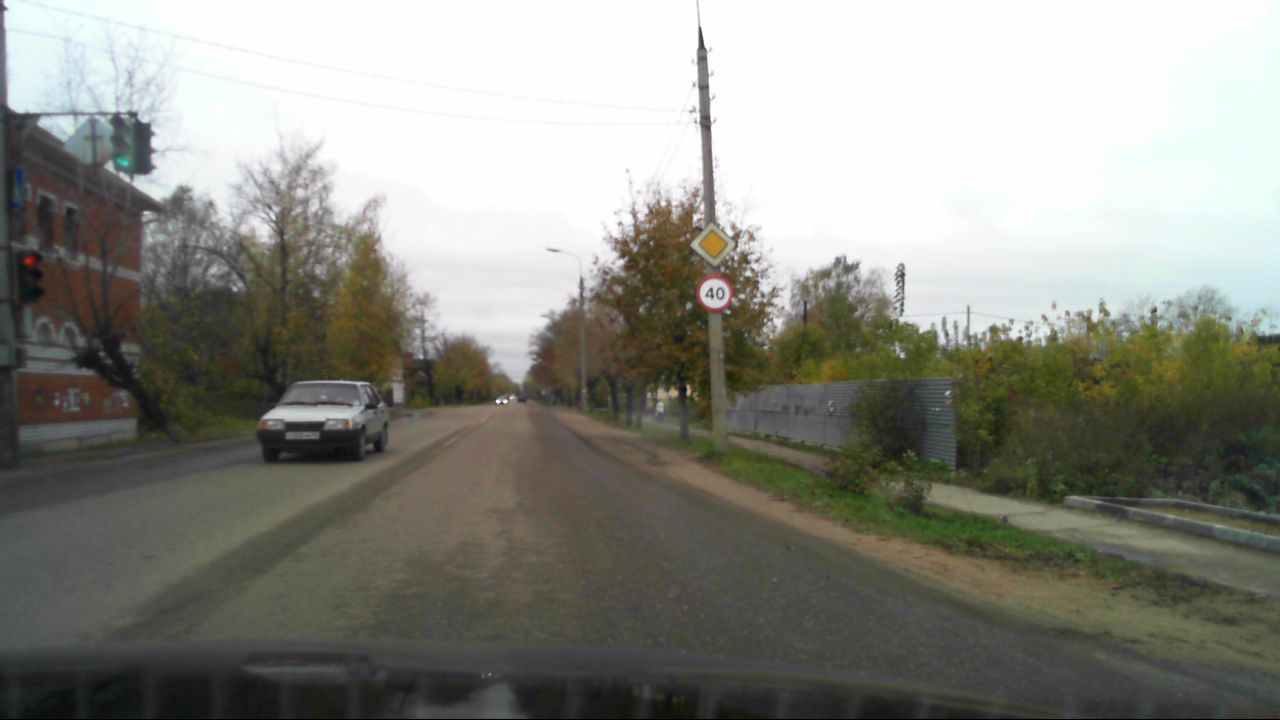speed_warning_40: (695, 274, 732, 312)
